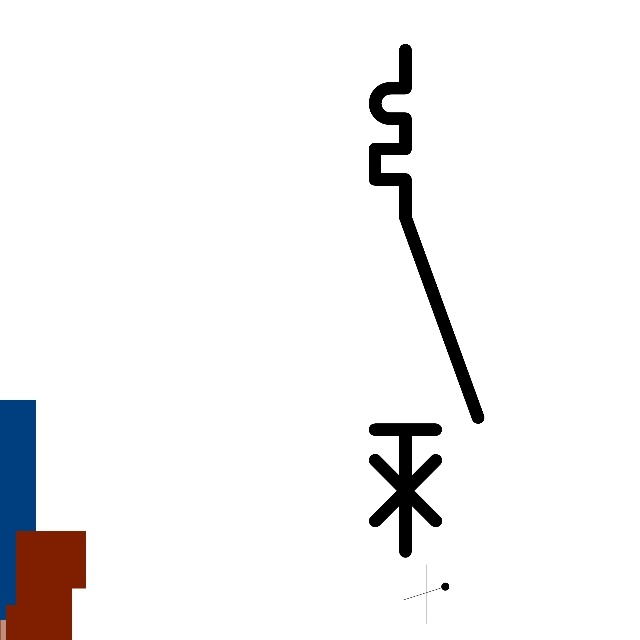interruptor_termomagnetico: (362, 37, 491, 564)
